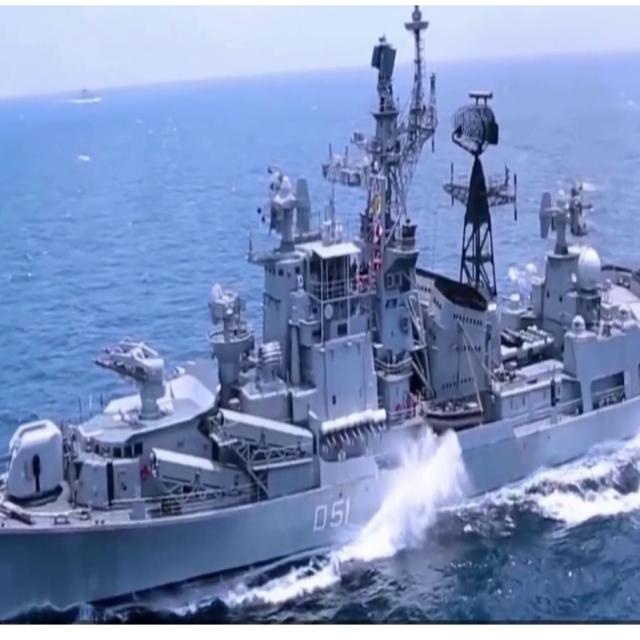OCR: (307, 492, 357, 542)
